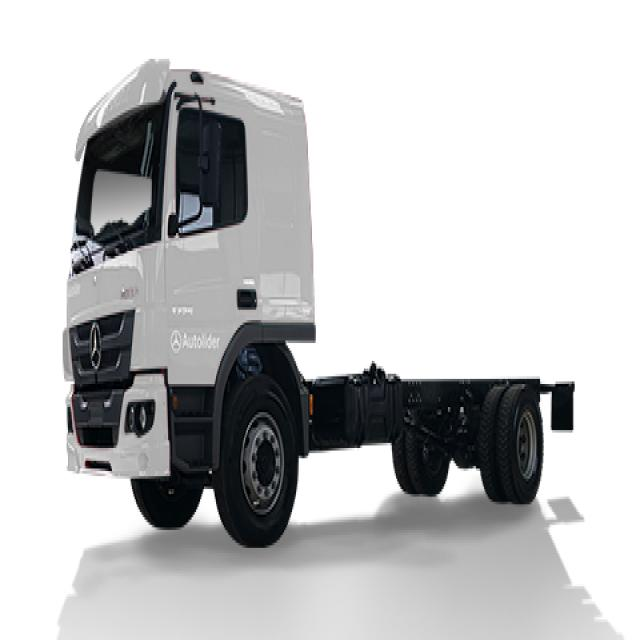TRUCK: (62, 43, 574, 545)
